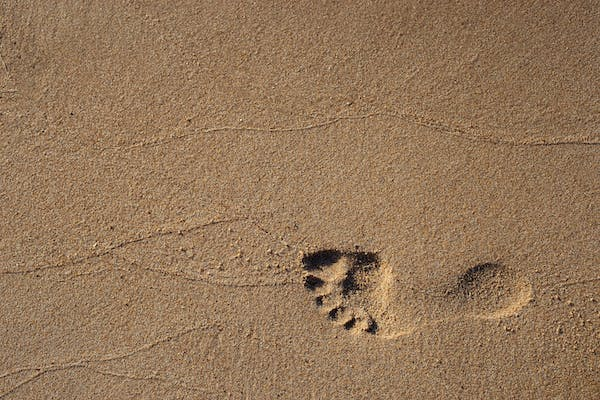human_foot_print: (238, 223, 580, 349)
